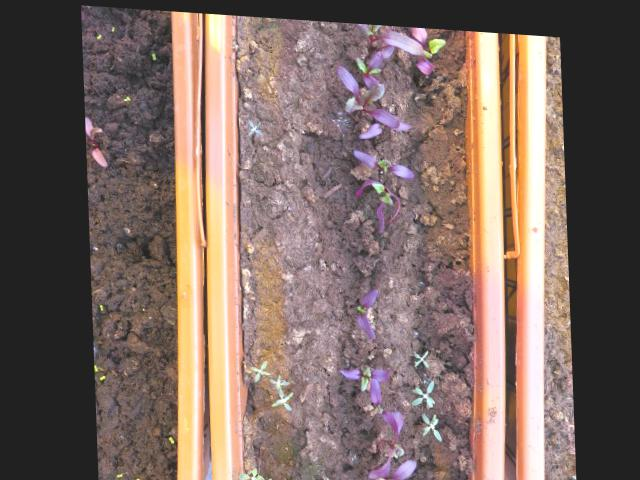crop: (350, 280, 380, 338)
weed: (402, 370, 438, 403), (416, 404, 446, 441), (406, 338, 433, 365), (150, 44, 158, 61), (162, 430, 173, 442), (110, 468, 121, 477), (94, 30, 105, 39), (110, 21, 118, 33), (95, 371, 105, 380), (97, 299, 104, 311), (126, 473, 139, 479)
